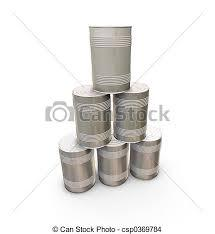Tin: (52, 9, 180, 198)
